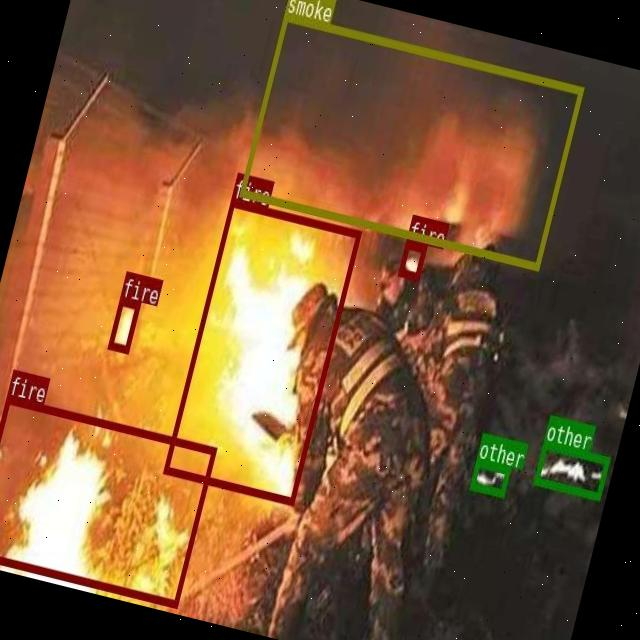fire: (162, 198, 360, 505), (0, 394, 216, 606), (106, 296, 140, 352), (398, 240, 427, 278)
smoke: (239, 12, 582, 268)
